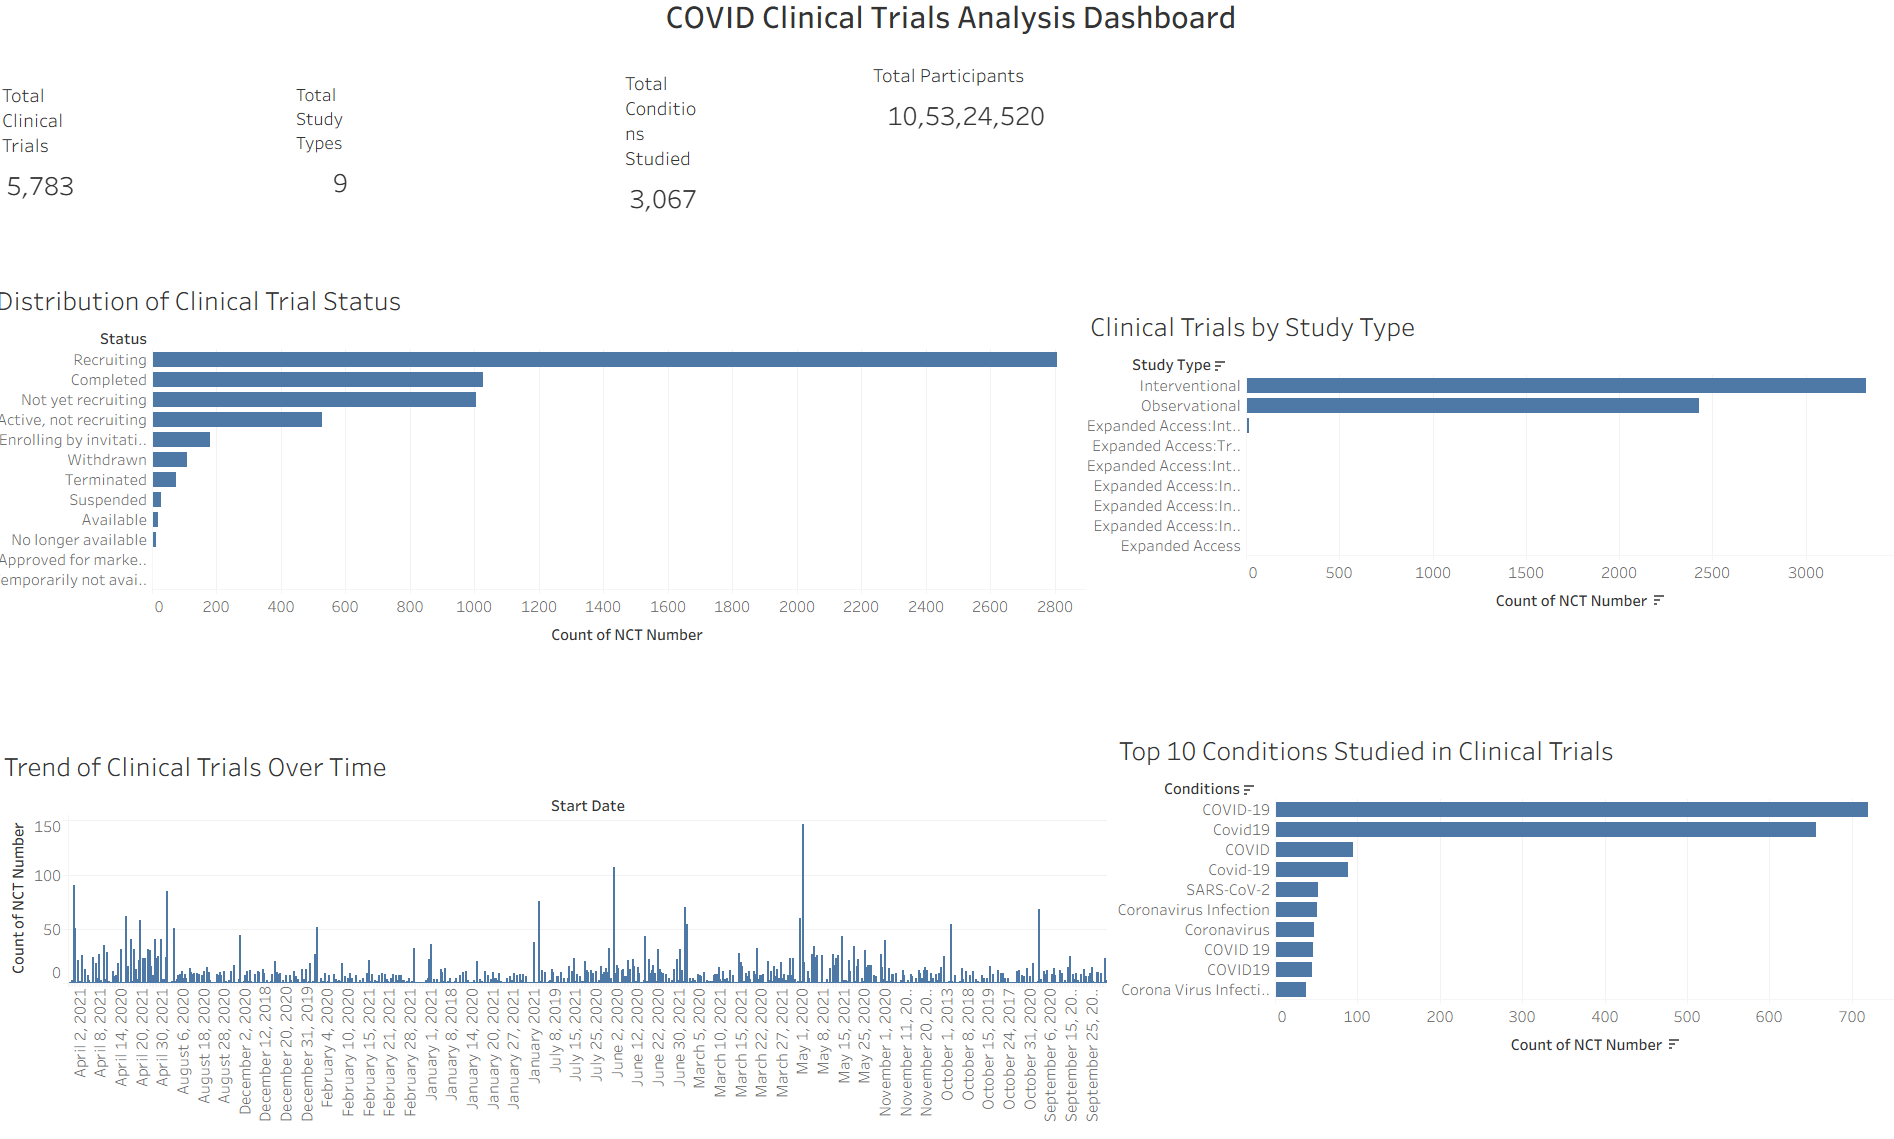

What the dashboard file says about the page in this screenshot:
{"tool":"tableau","page":{"name":"COVID Clinical Trials Analysis Dashboard","canvas":[1000,1000],"units":"permille","ordinal":0},"visuals":[{"type":"title","box":[4.8,8.2,990.3,50.5]},{"type":"worksheet","title":"Total Participants","mark":"Automatic","box":[457.4,64.9,219.1,144.2]},{"type":"worksheet","title":"Total Conditions Studied","mark":"Automatic","box":[328.3,71.1,175,150.4]},{"type":"worksheet","title":"Total Clinical Trials","mark":"Automatic","box":[3.6,81.4,208.8,131.8]},{"type":"worksheet","title":"Total Study Types","mark":"Automatic","box":[156.9,81.4,199.2,131.8]},{"type":"worksheet","title":"Distribution of Clinical Trial Status","mark":"Automatic","rows":["Status"],"cols":["NCT_Number"],"box":[0.6,254.4,578.1,392.4]},{"type":"worksheet","title":"Clinical Trials by Study Type","mark":"Automatic","rows":["Study_Type"],"cols":["NCT_Number"],"box":[570.3,277,422.4,360.4]},{"type":"worksheet","title":"Top 10 Conditions Studied in Clinical Trials","mark":"Automatic","rows":["Conditions"],"cols":["NCT_Number"],"box":[585.4,641.6,408,348.1]},{"type":"worksheet","title":"Trend of Clinical Trials Over Time","mark":"Automatic","rows":["NCT_Number"],"cols":["Start_Date"],"box":[4.8,655,576.3,332.7]}]}

Visuals, with their boxes on the dashboard's canvas, which has no fixed pixel size, in thousandths of its width and height (x1, y1, x2, y2). These are canvas units, not pixel positions in the 1894x1139 screenshot, which may show the page scaled, cropped or inside an application window:
title: 5 8 995 59
"Total Participants" worksheet: 457 65 676 209
"Total Conditions Studied" worksheet: 328 71 503 222
"Total Clinical Trials" worksheet: 4 81 212 213
"Total Study Types" worksheet: 157 81 356 213
"Distribution of Clinical Trial Status" worksheet: 1 254 579 647
"Clinical Trials by Study Type" worksheet: 570 277 993 637
"Top 10 Conditions Studied in Clinical Trials" worksheet: 585 642 993 990
"Trend of Clinical Trials Over Time" worksheet: 5 655 581 988
